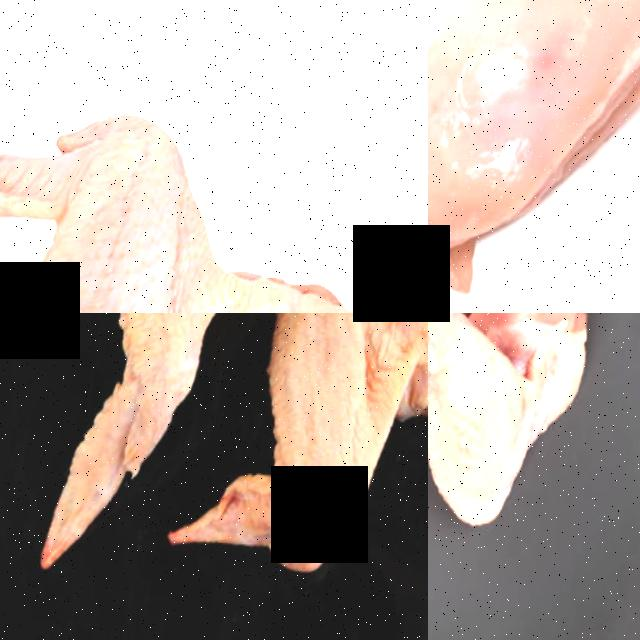chicken breast: (428, 0, 640, 313)
chicken wing: (0, 86, 426, 313), (19, 313, 287, 564), (187, 313, 428, 576), (428, 313, 611, 530)
